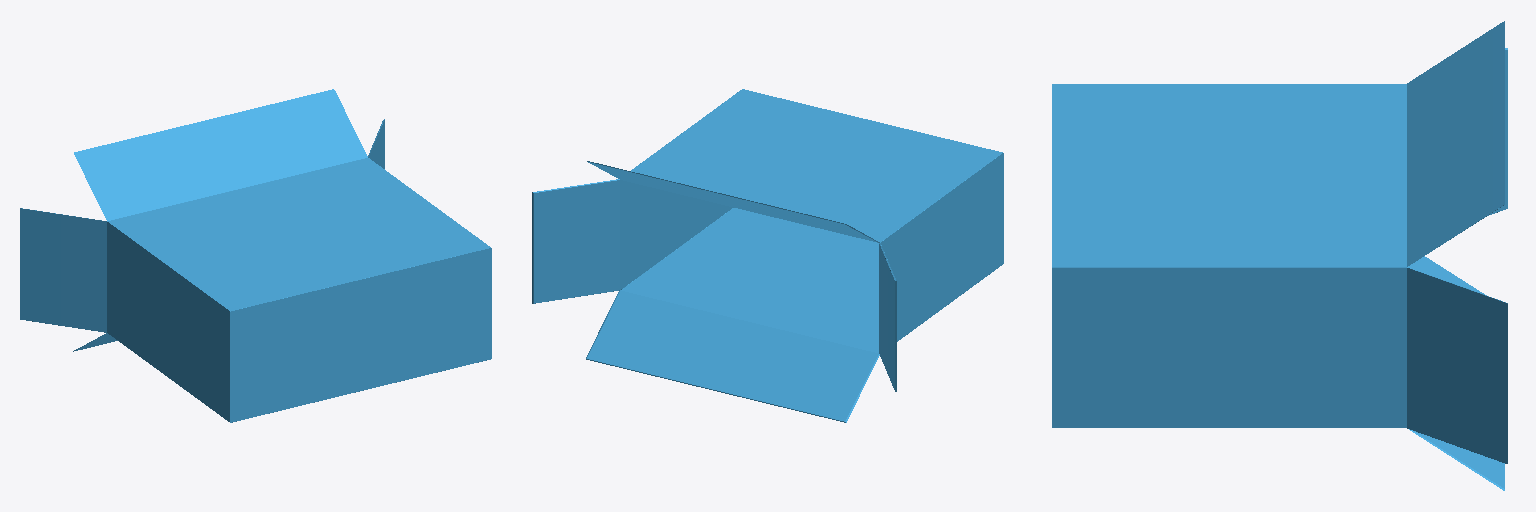
The robot description file, URDF, robot "urdf_cardboard_box":
<?xml version="0.0" ?>
<robot name="urdf_cardboard_box">
    <link name="world"/>

    <joint name="fixed" type="fixed">
        <parent link="world"/>
        <child link="cardboard_box"/>
        <origin xyz="0 0 0"/>
    </joint>

    <link name="cardboard_box">
        <inertial>
            <origin rpy="0 0 0" xyz="0 0 0"/>
            <mass value="0"/>
            <inertia ixx="1" ixy="0" ixz="0" iyy="1" iyz="0" izz="1"/>
        </inertial>
        <visual>
            <origin rpy="0 0 0" xyz="0 0 0"/>
            <geometry>
                <mesh filename="meshes/cardboard_box.obj"/>
            </geometry>
        </visual>
        <collision concave="yes">
            <origin rpy="0 0 0" xyz="0 0 0"/>
            <geometry>
                <mesh filename="meshes/cardboard_box.obj"/>
            </geometry>
        </collision>
    </link>
</robot>

--- What the picture shows (computed from the rendered views, not written in the file) ---
The picture shows the robot from 3 angles, left to right: view 1: azimuth 30°, elevation 25°; view 2: azimuth 150°, elevation 25°; view 3: azimuth 270°, elevation 25°; orthographic projection.
Robot: urdf_cardboard_box — 2 links, 1 joints (1 fixed); root link world; default pose: every joint at zero.
Links seen in each view (by area): view 1: cardboard_box; view 2: cardboard_box; view 3: cardboard_box.
Link boxes in pixels (x1,y1,x2,y2): cardboard_box: (20,89,491,422); cardboard_box: (532,89,1003,422); cardboard_box: (1052,21,1507,490).
Size in the robot's own frame: 0.3415 by 0.2571 by 0.1784 metres.
Meshes: 1 distinct files referenced, 1 mesh visuals loaded (1 OBJ).
